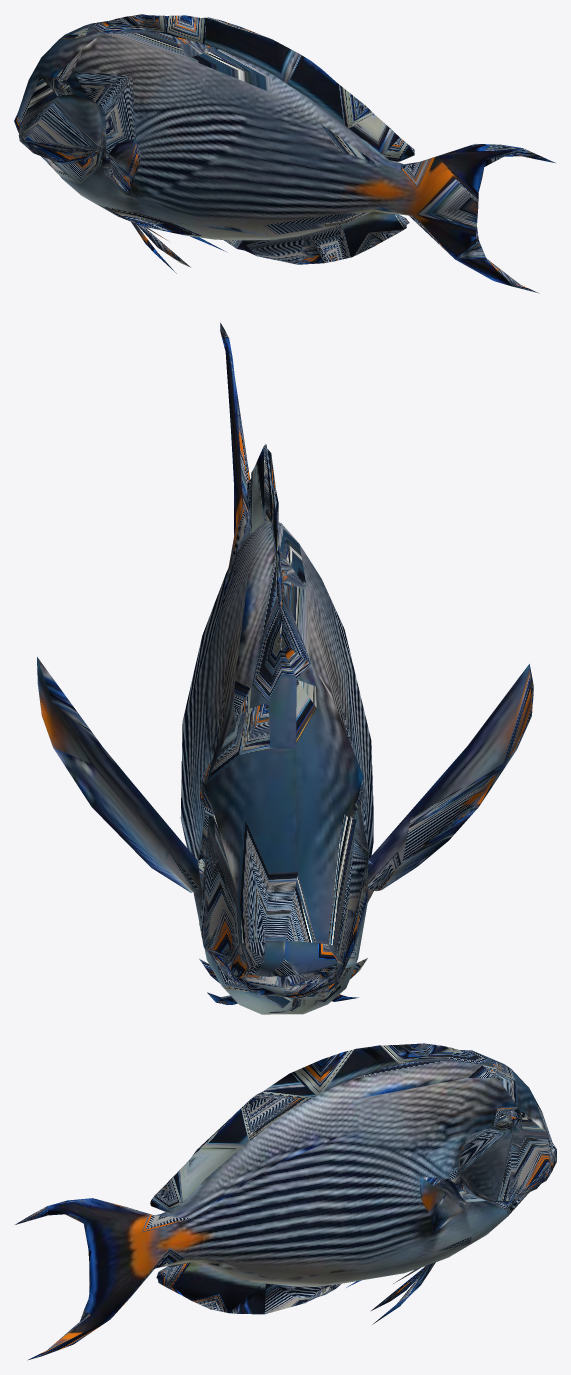
The model's file is sohal-ver.glb.
3 views of the same model, one above another, from view 1: azimuth 30°, elevation 25°; view 2: azimuth 150°, elevation 25°; view 3: azimuth 270°, elevation 25° (orthographic). The views are drawn at different scales.
Visible parts, largest first — view 1: tripo_node_b0181cbd-e84a-41ee-89db-96709c8479de; view 2: tripo_node_b0181cbd-e84a-41ee-89db-96709c8479de; view 3: tripo_node_b0181cbd-e84a-41ee-89db-96709c8479de.
Part boxes in pixels (x1=…): tripo_node_b0181cbd-e84a-41ee-89db-96709c8479de: x1=14, y1=14, x2=555, y2=293; tripo_node_b0181cbd-e84a-41ee-89db-96709c8479de: x1=37, y1=323, x2=533, y2=1014; tripo_node_b0181cbd-e84a-41ee-89db-96709c8479de: x1=15, y1=1043, x2=556, y2=1360.
Bounding box in the file's own units: 0.3764 × 0.2978 × 0.5575.
1 material, 1 textured.
